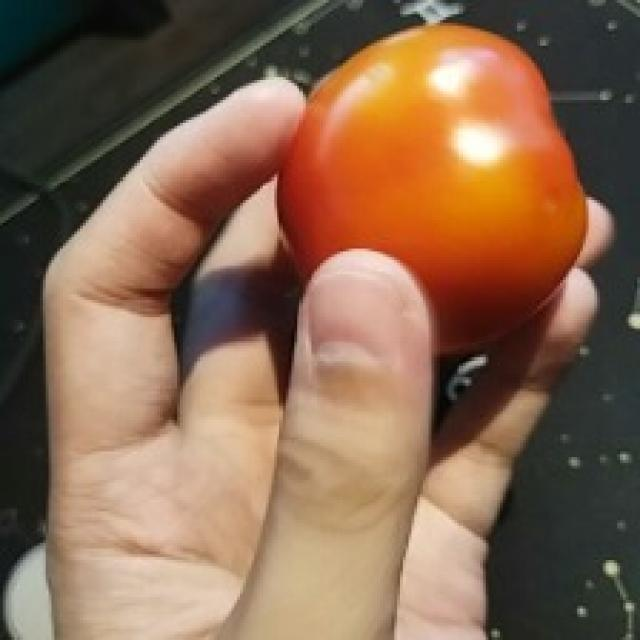Fresh Tomato: (279, 24, 588, 352)
